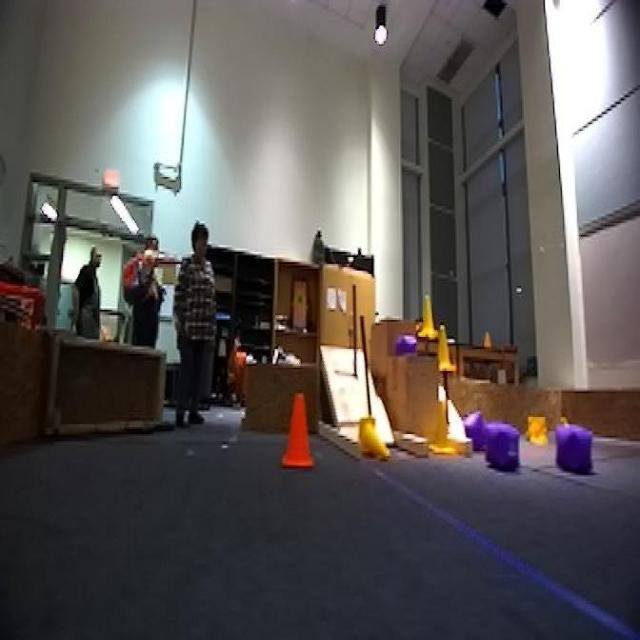frc_cone: (431, 395, 459, 454), (359, 414, 391, 461), (436, 322, 457, 372), (416, 296, 439, 339), (522, 412, 551, 446)
frc_cube: (556, 422, 592, 472), (484, 419, 519, 468), (462, 408, 488, 449), (393, 334, 417, 356)
